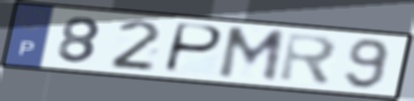2: (106, 19, 165, 72)
8: (56, 15, 102, 65)
9: (343, 37, 392, 91)
M: (214, 25, 288, 85)
P: (161, 21, 226, 76)
R: (277, 30, 341, 88)
